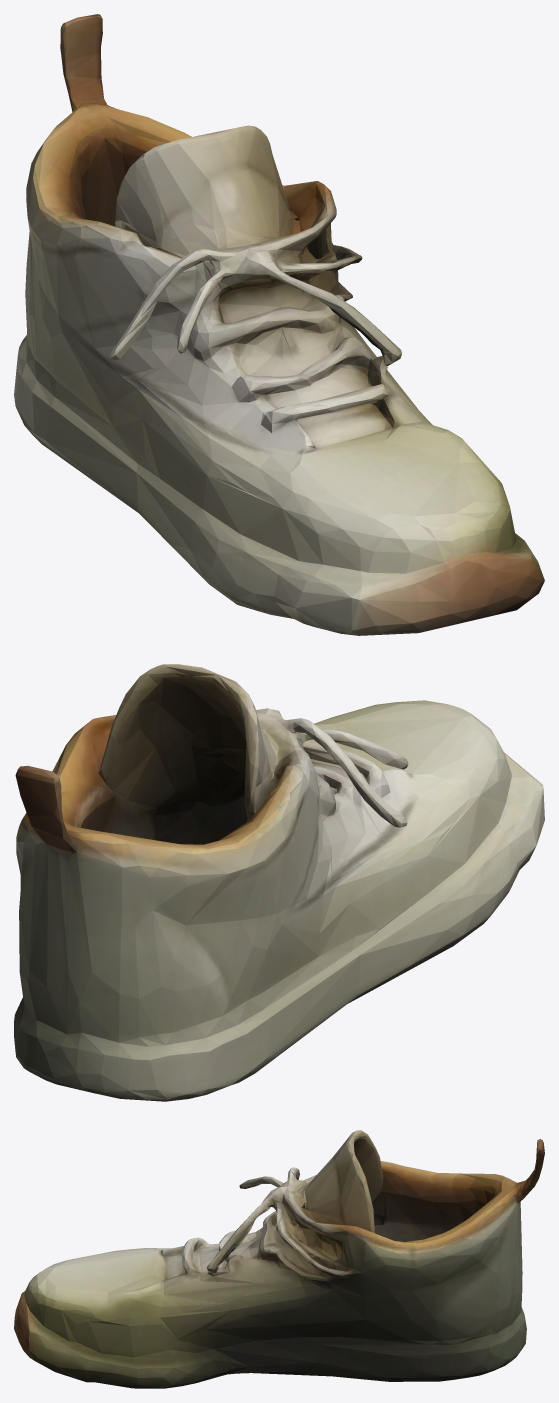
3 renders of one model, top to bottom at view 1: azimuth 30°, elevation 25°; view 2: azimuth 150°, elevation 25°; view 3: azimuth 270°, elevation 25°, orthographic. The views are drawn at different scales.
Parts seen in each view (by area): view 1: geometry_0; view 2: geometry_0; view 3: geometry_0.
Boxes of the visible parts, left/top/right/bottom form: geometry_0: left=14, top=14, right=544, bottom=635; geometry_0: left=14, top=664, right=544, bottom=1101; geometry_0: left=14, top=1130, right=544, bottom=1388.
Bounding box in the file's own units: 0.3942 × 0.4547 × 0.9946.
1 material, 1 textured.
